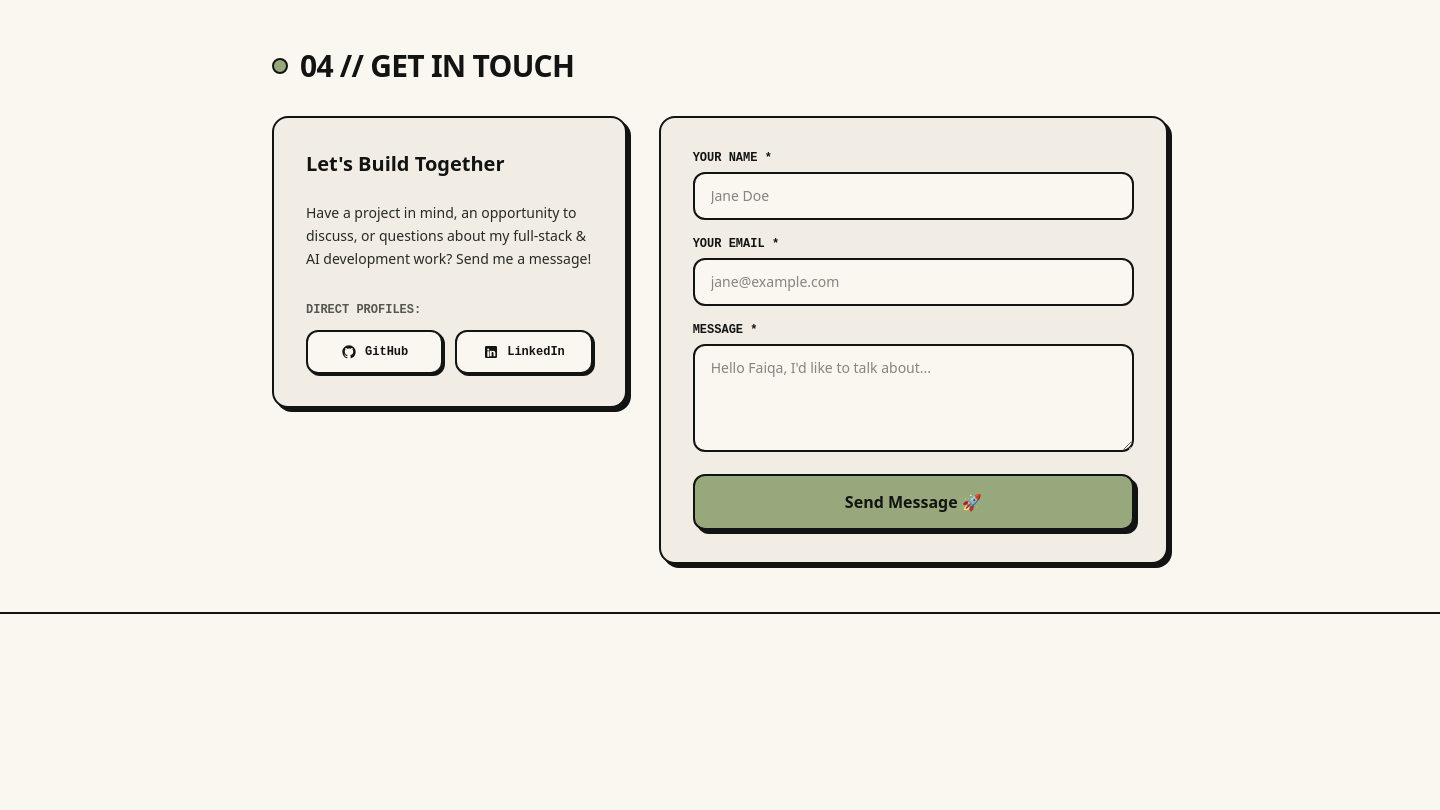
Test case: Contact component › shows error message when submitting email missing dot domain
Type "Alice" into the field labelled "Your Name *".
click(913, 196); type("Alice")  # box [693, 172, 1134, 220]
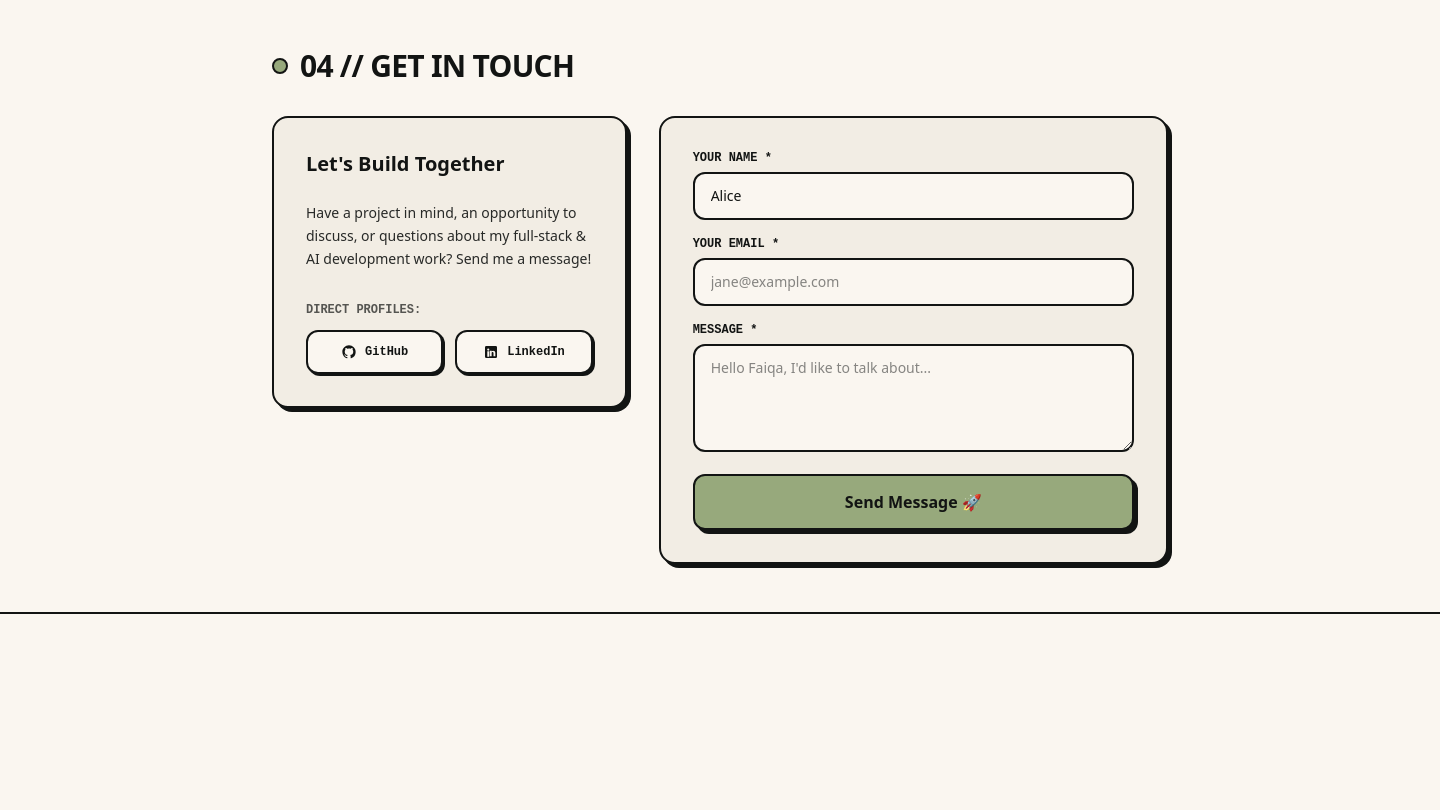
Type "alice@domain" into the field labelled "Your Email *".
click(913, 282); type("alice@domain")  # box [693, 258, 1134, 306]
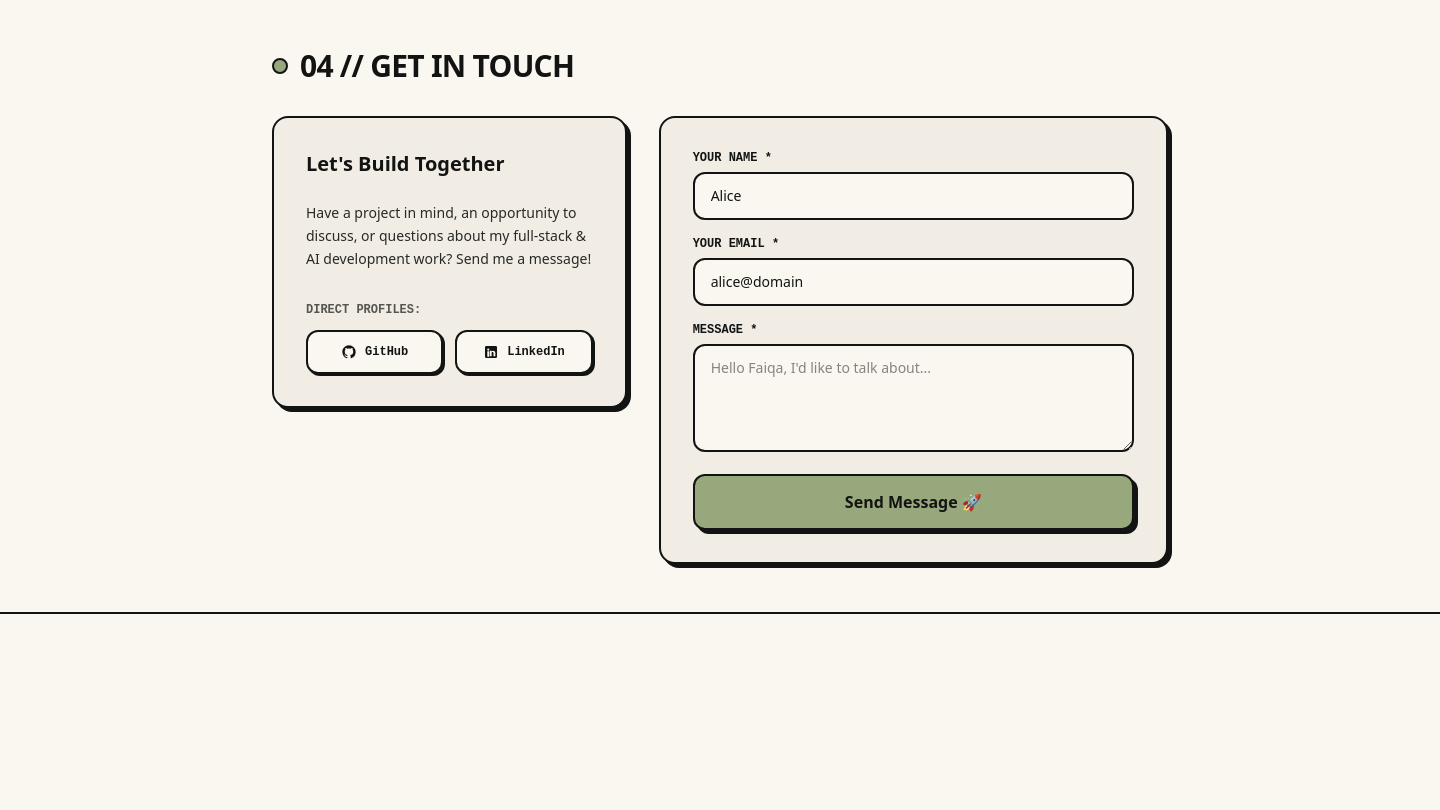
Type "Hello there" into the text box labelled "Message *".
click(913, 398); type("Hello there")  # box [693, 344, 1134, 452]
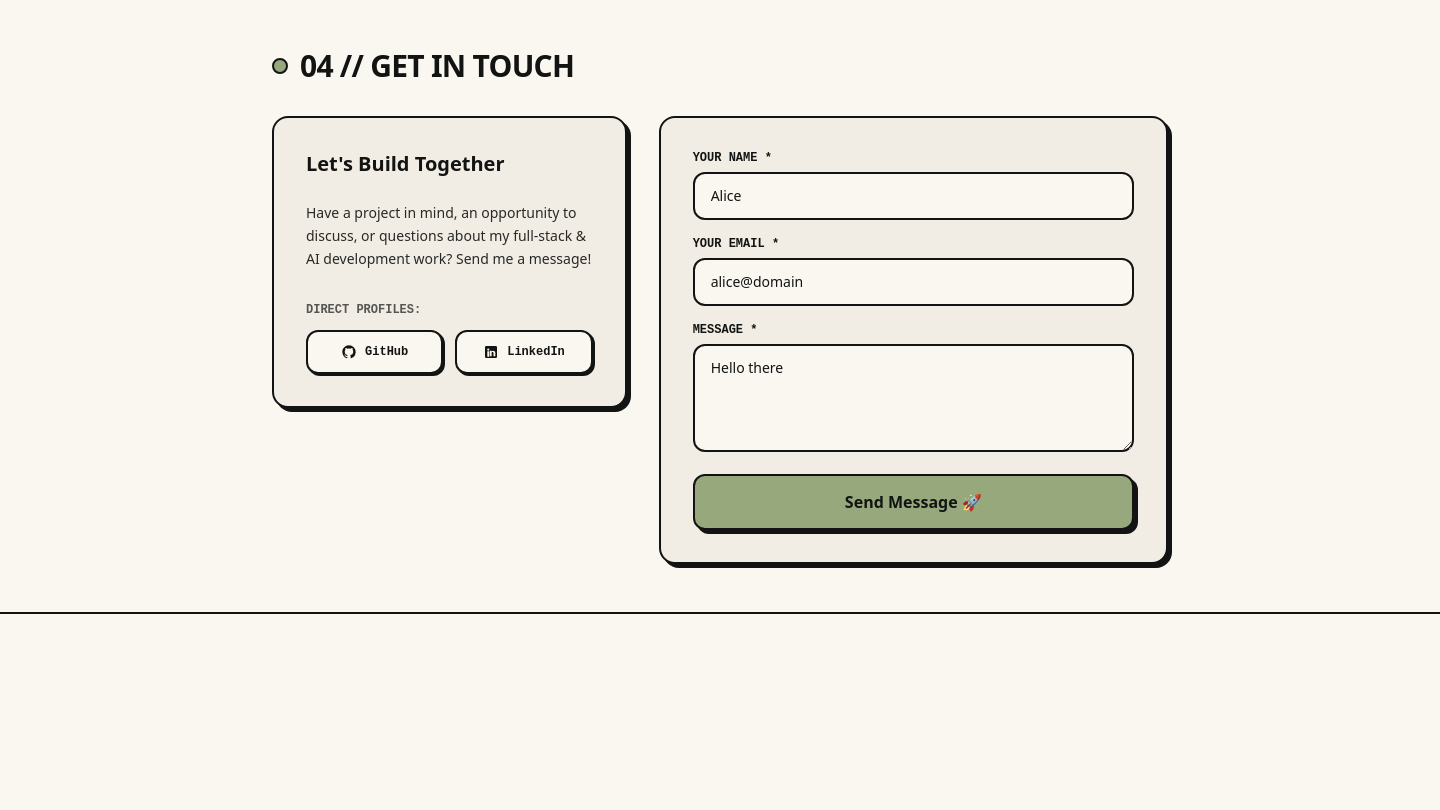
Submit the form, box [693, 150, 1134, 530]
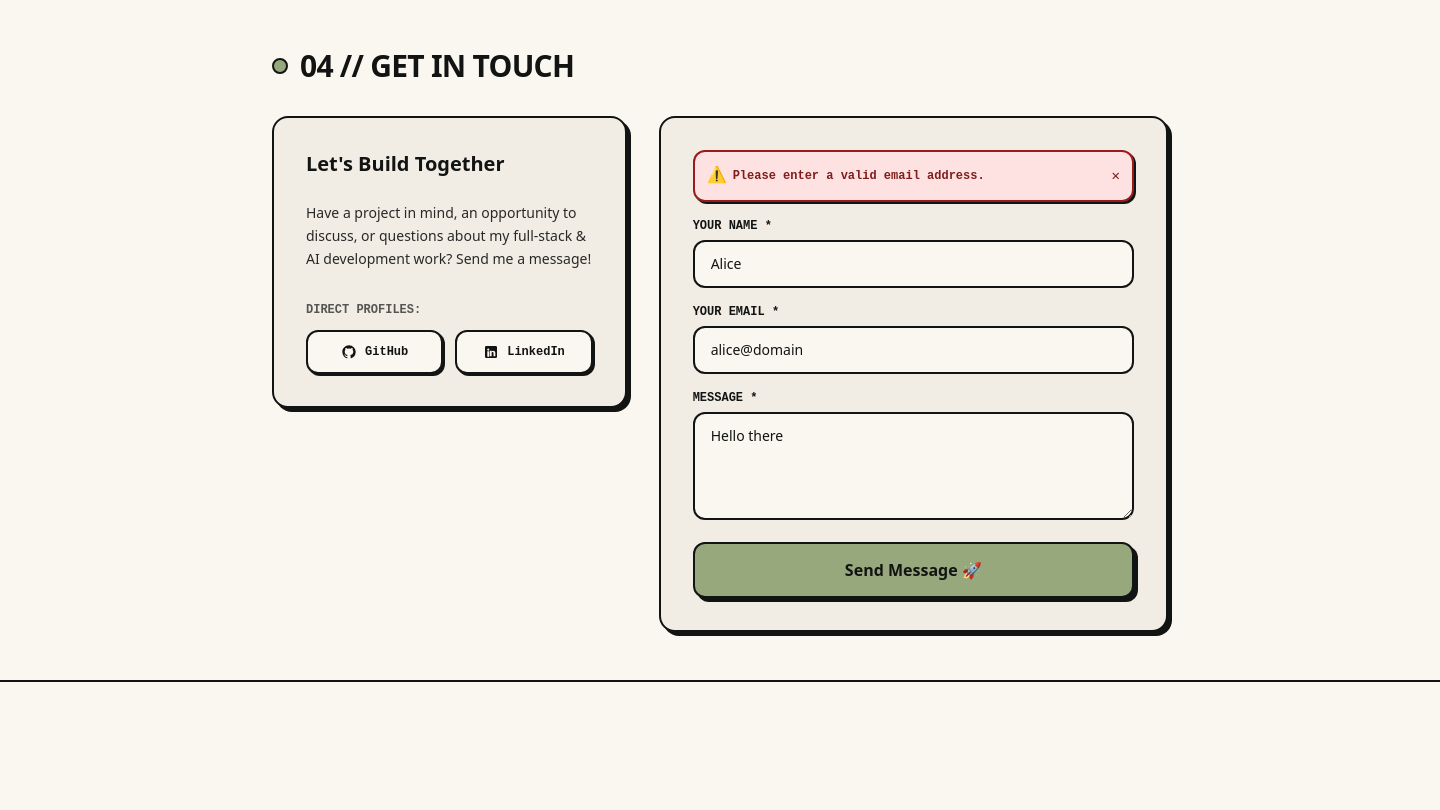
Now the text "Please enter a valid email address." is shown, box [733, 168, 985, 184]
